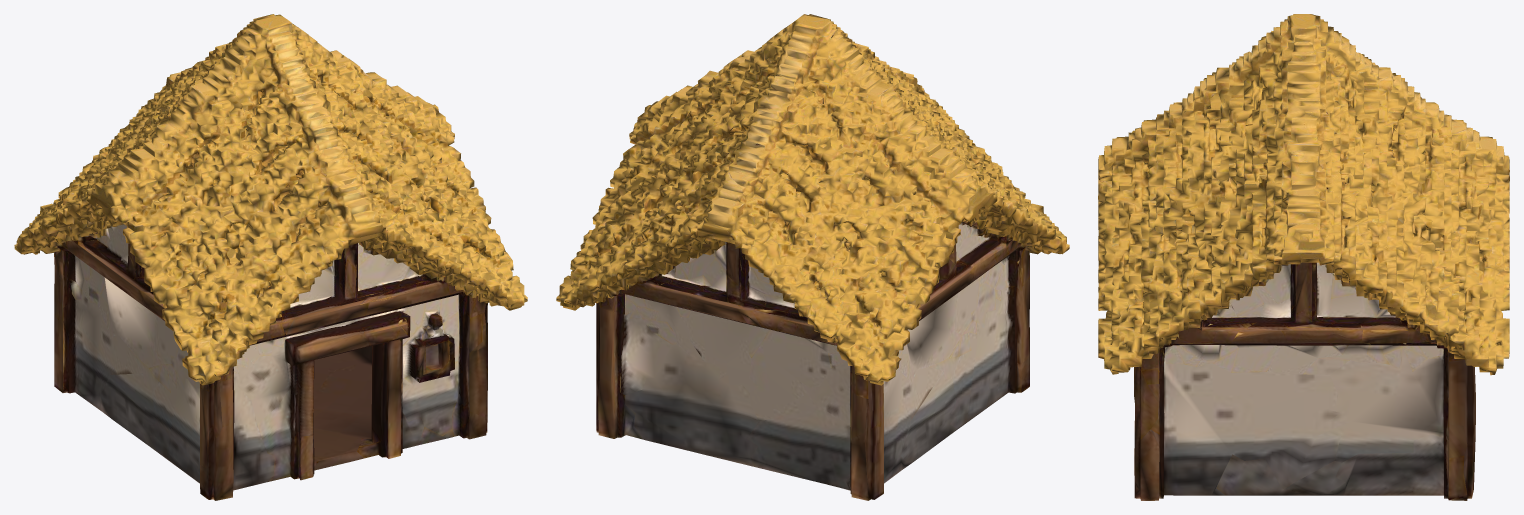
File: fishers_house_optimized.glb
The picture shows the model from 3 angles, left to right: view 1: azimuth 30°, elevation 25°; view 2: azimuth 150°, elevation 25°; view 3: azimuth 270°, elevation 25°; orthographic projection. The views are drawn at different scales.
Size of the model in its own units: 1.75 by 1.9 by 1.74.
1 material, 1 textured.
